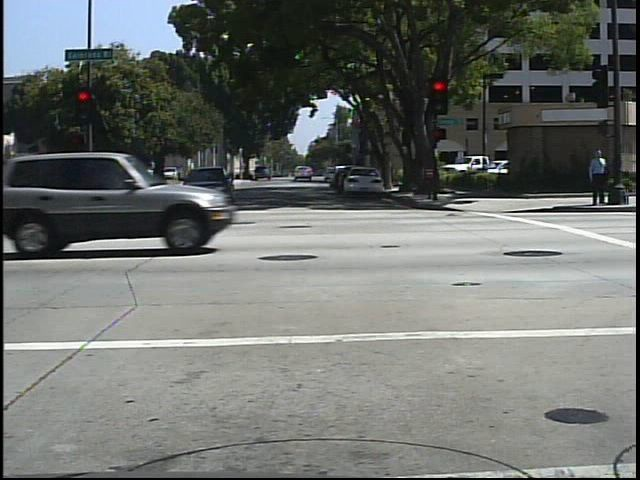person: (586, 143, 608, 209), (134, 155, 166, 188)
